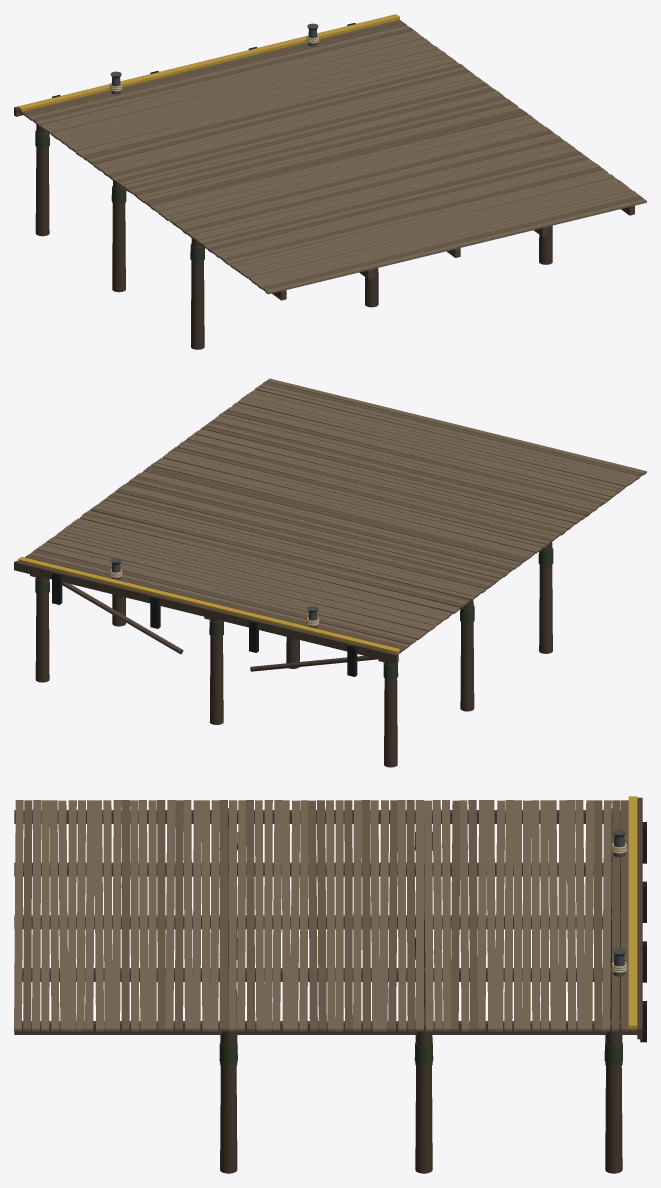
The model's file is jetty.glb.
3 views of the same model, one above another, from view 1: azimuth 30°, elevation 25°; view 2: azimuth 150°, elevation 25°; view 3: azimuth 270°, elevation 25° (orthographic). The views are drawn at different scales.
Parts seen in each view (by area): view 1: edge_100, board_69, board_22, board_5, board_58, board2_35, board_26, board_52, board2_18, board_19, board_45, board_33 (+61 smaller); view 2: beam_99, edge_100, board2_35, board_21, board_13, board_66, board_16, board_60, board_24, board_54, board_31, board_40 (+65 smaller); view 3: beam_74, edge_100, pile_80, pile_88, pile_96, board_33, board2_4, board2_46, board2_53, board_66, board_54, board2_30 (+67 smaller).
Boxes of the visible parts, x1,y1,x2,y2 form: edge_100: [18, 14, 399, 111]; board_69: [265, 198, 646, 294]; board_22: [97, 74, 477, 171]; board_5: [35, 30, 417, 125]; board_58: [225, 169, 607, 265]; board2_35: [144, 108, 524, 205]; board_26: [111, 85, 492, 181]; board_52: [204, 154, 585, 249]; board2_18: [83, 64, 463, 160]; board_19: [87, 66, 467, 162]; board_45: [180, 135, 560, 230]; board_33: [136, 103, 517, 199]; beam_99: [14, 560, 398, 663]; edge_100: [18, 556, 399, 653]; board2_35: [143, 468, 524, 563]; board_21: [93, 505, 474, 600]; board_13: [65, 526, 445, 621]; board_66: [255, 386, 635, 482]; board_16: [75, 518, 457, 613]; board_60: [232, 402, 614, 498]; board_24: [104, 497, 485, 593]; board_54: [212, 418, 592, 513]; board_31: [129, 478, 509, 574]; board_40: [162, 454, 542, 551]; beam_74: [14, 1021, 637, 1034]; edge_100: [628, 796, 637, 1029]; pile_80: [605, 1019, 622, 1173]; pile_88: [415, 1019, 432, 1173]; pile_96: [220, 1019, 237, 1173]; board_33: [335, 800, 343, 1031]; board2_4: [594, 800, 602, 1031]; board2_46: [219, 800, 227, 1031]; board2_53: [157, 800, 165, 1031]; board_66: [41, 800, 49, 1031]; board_54: [148, 800, 156, 1030]; board2_30: [362, 800, 370, 1031].
Size of the model in its own units: 10.1 by 3.51 by 11.67.
